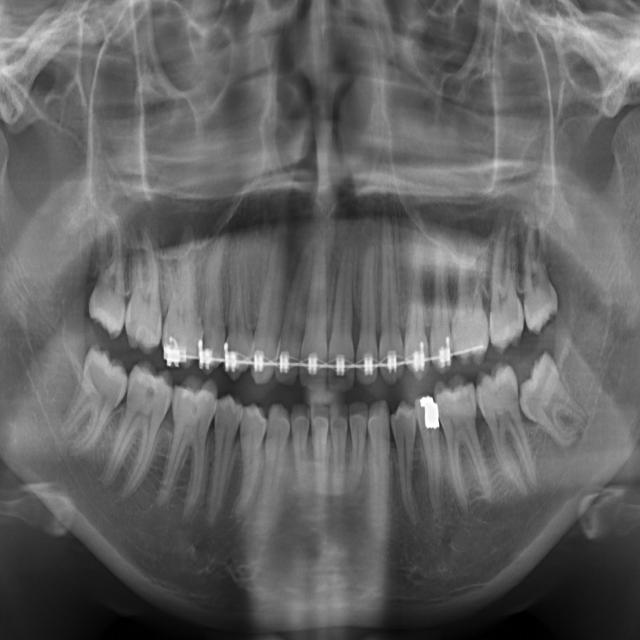AmalgamRestoration: (419, 388, 441, 442)
DentalCaries: (179, 376, 215, 432), (126, 286, 165, 332), (200, 316, 219, 364), (139, 380, 159, 418)
